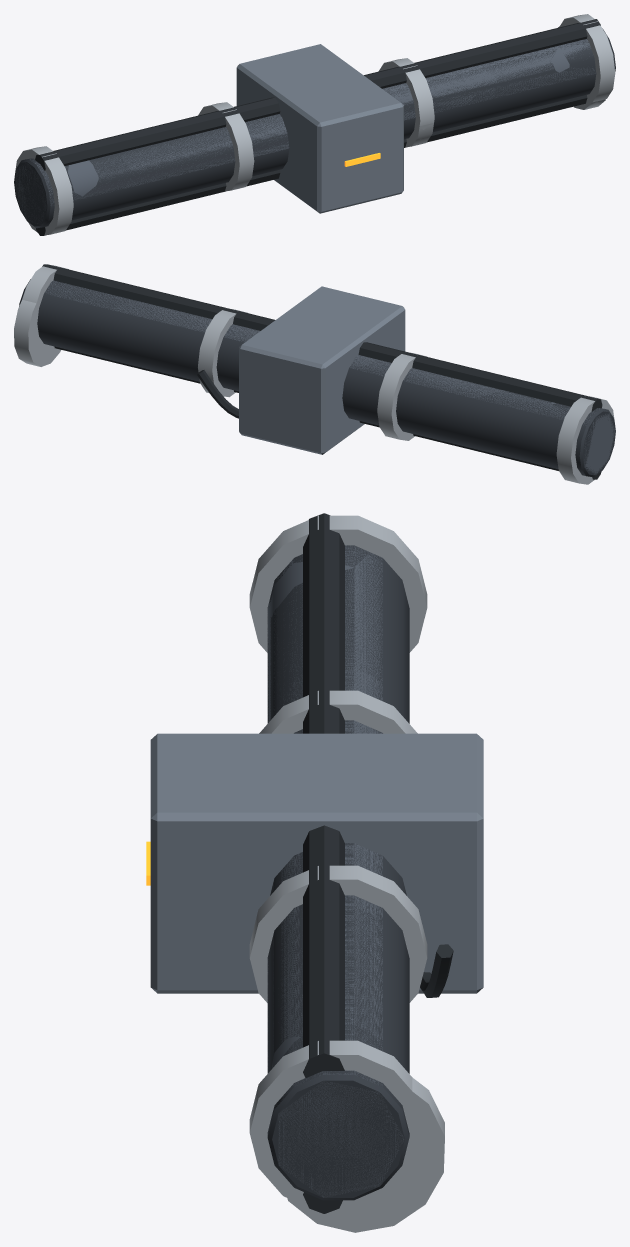
The model's file is shr_cmp_power_conduit_a.glb.
3 views of the same model, one above another, from view 1: azimuth 30°, elevation 25°; view 2: azimuth 150°, elevation 25°; view 3: azimuth 270°, elevation 25° (orthographic). The views are drawn at different scales.
Visible parts, largest first — view 1: mesh_intact, mesh_heavy; view 2: mesh_heavy, mesh_intact, mesh_light; view 3: mesh_intact, mesh_heavy, mesh_light.
Part boxes in pixels (x1=…): mesh_intact: x1=15, y1=14, x2=615, y2=235; mesh_heavy: x1=14, y1=19, x2=615, y2=235; mesh_heavy: x1=14, y1=264, x2=615, y2=484; mesh_intact: x1=22, y1=265, x2=615, y2=484; mesh_light: x1=212, y1=310, x2=235, y2=396; mesh_intact: x1=150, y1=516, x2=483, y2=1211; mesh_heavy: x1=146, y1=513, x2=453, y2=1232; mesh_light: x1=250, y1=865, x2=426, y2=1002.
Bounding box in the file's own units: 1.18 × 0.189 × 0.304.
